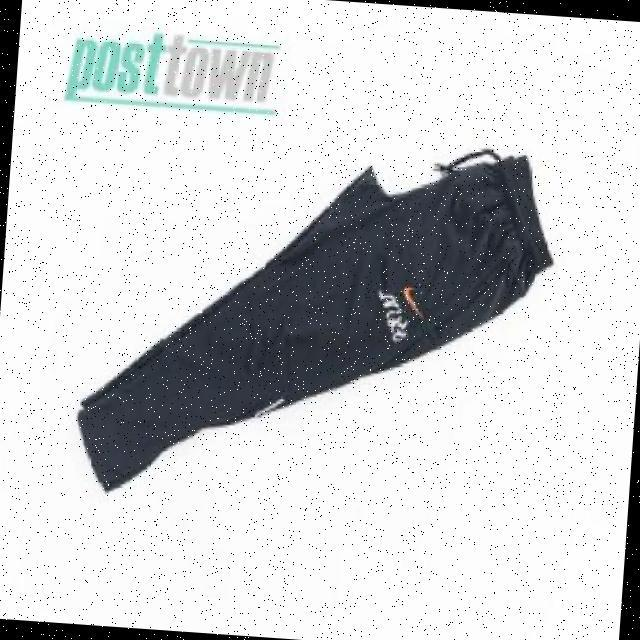Nike: (399, 281, 423, 315)
